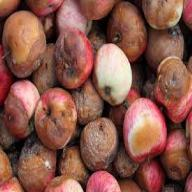apple: (123, 92, 165, 158), (34, 87, 78, 144), (53, 27, 93, 86), (93, 44, 132, 104), (155, 54, 189, 122), (2, 15, 42, 70), (2, 80, 41, 136), (80, 116, 120, 168), (108, 3, 145, 59), (144, 20, 183, 70), (18, 134, 56, 185), (53, 140, 92, 184), (70, 76, 106, 122)
